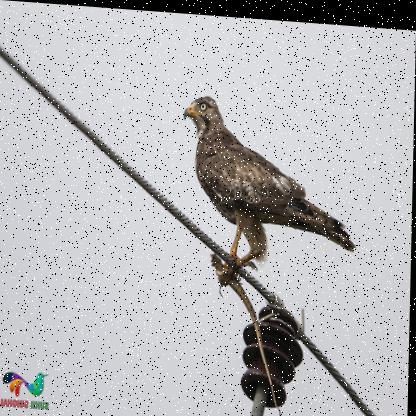Burung: (179, 91, 361, 271)
